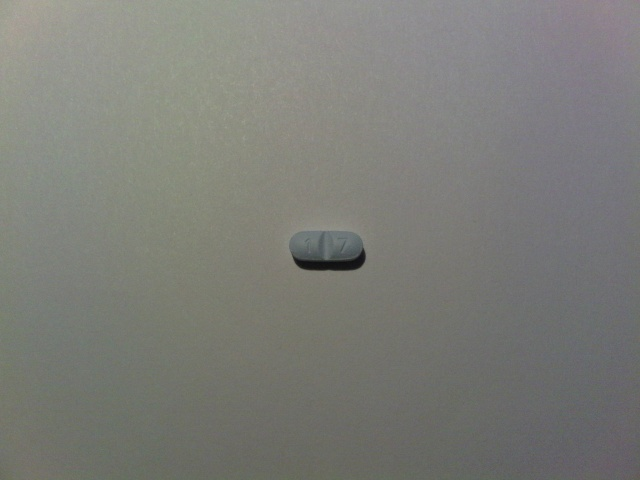1: (302, 237, 314, 255)
7: (334, 234, 350, 254)
|: (319, 233, 335, 259)
